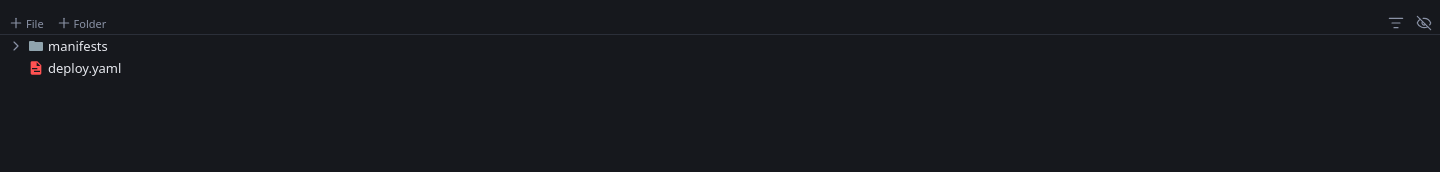
Scenario: the changed-only mode (#40) › says the repository is clean rather than that it is empty
Click the button named "Changed only" at [1396, 23], box [1384,12,1408,34]
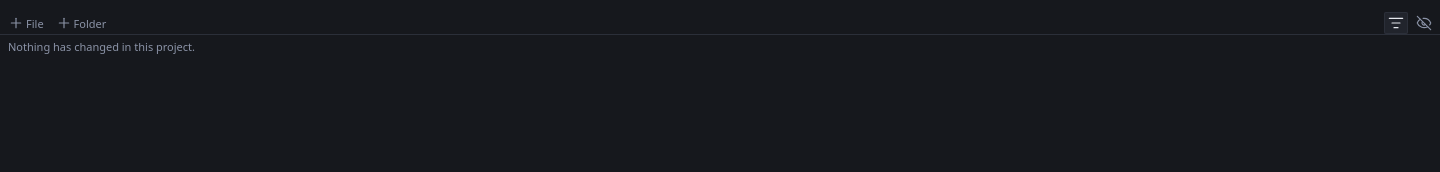
Now the text "Nothing has changed in this project." is shown, box [8,39,195,54]
